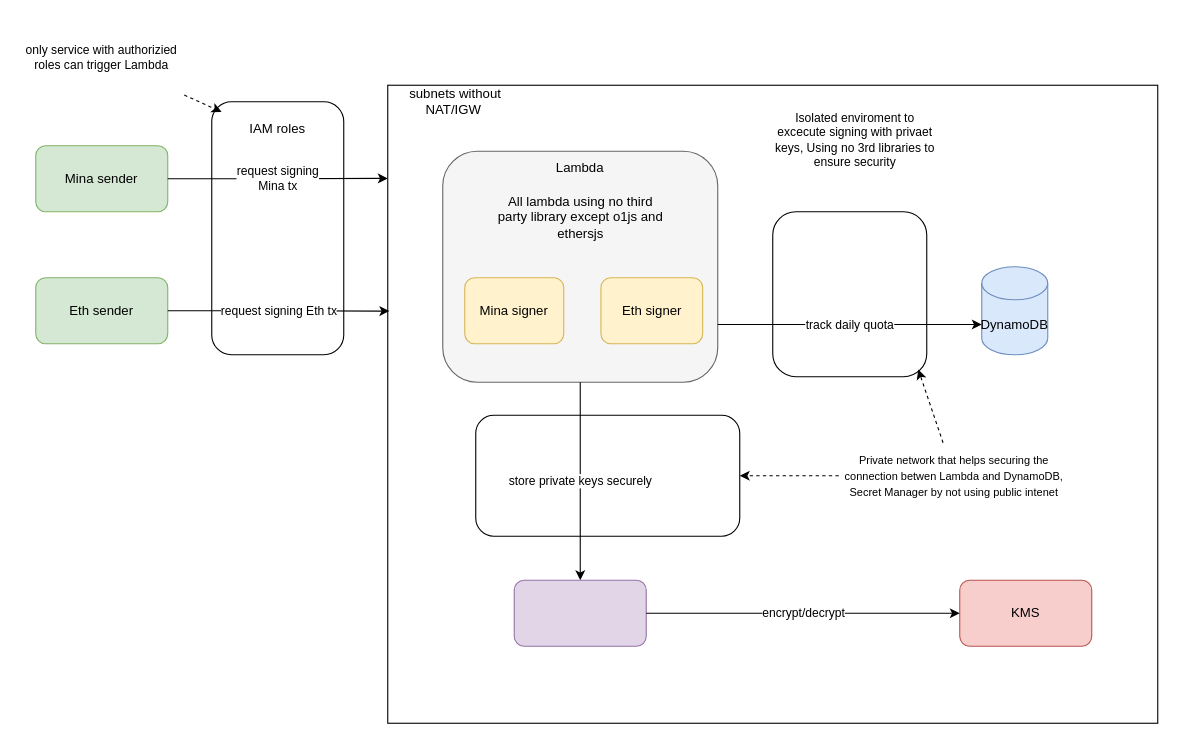
This 1177x743 diagram has some shape labels left out. The shapes that lost their labels are listed below. From the top down, each one's box as (x1, y1, x2, y2) in pixels, then its label:
(772, 211, 927, 377): gateway vpc endpoint
(475, 414, 740, 536): interface vpc endpoint
(513, 579, 646, 646): Secret managers
